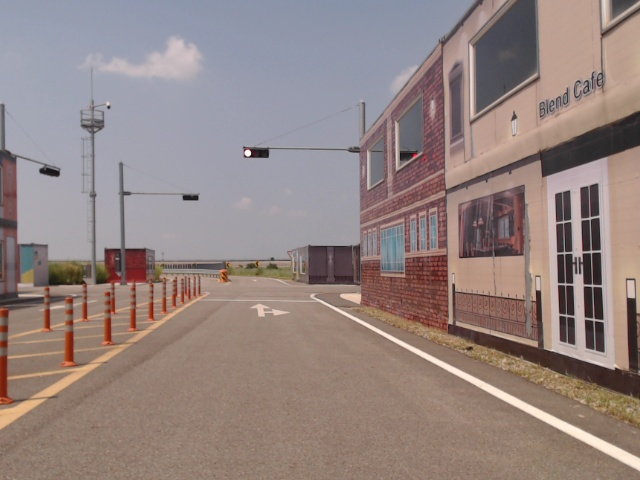red_3: (244, 148, 269, 157)
